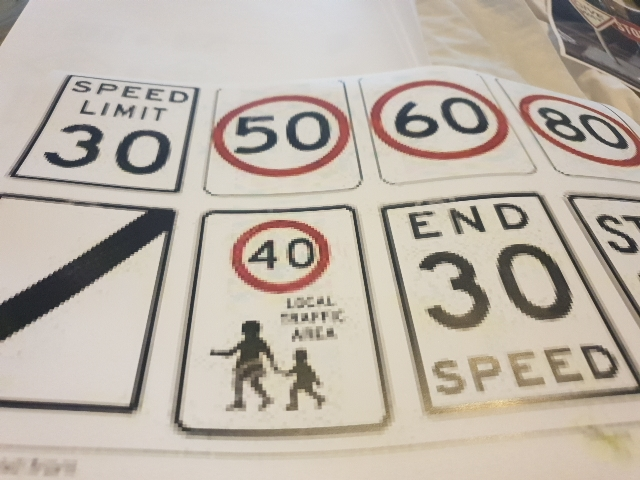sp30: (407, 242, 583, 328), (44, 119, 183, 183)
sp40: (227, 222, 339, 293)
sp50: (213, 94, 351, 177)
sp60: (367, 81, 507, 164)
sp80: (519, 85, 640, 169)
